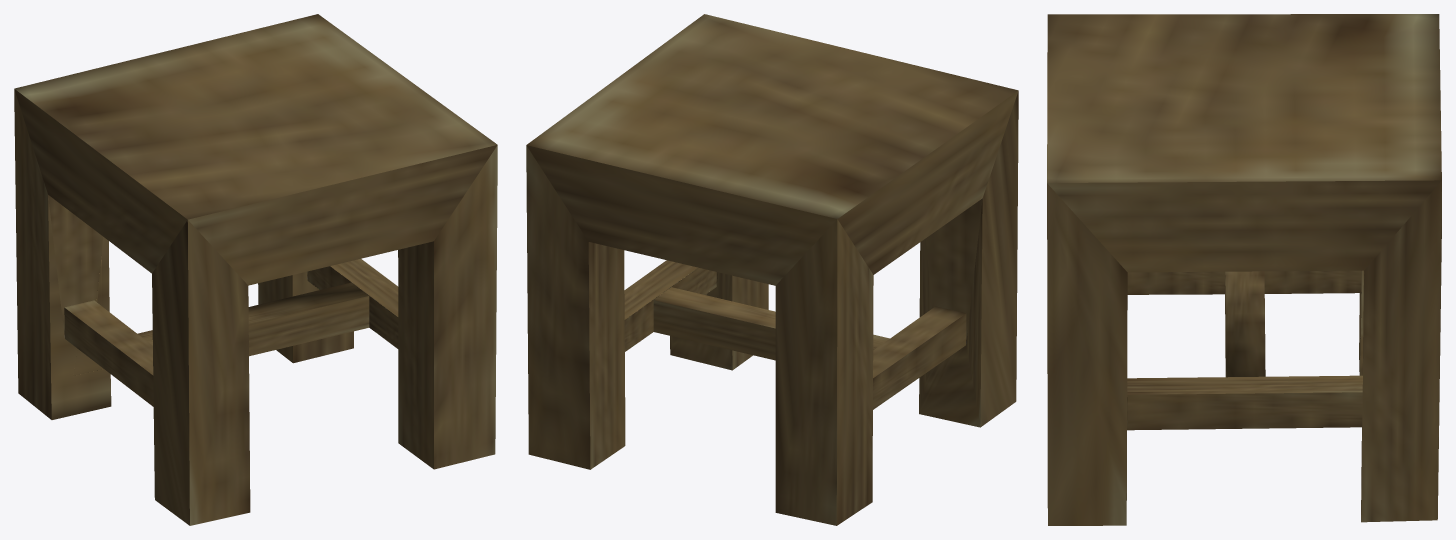
File: Stool.obj
The picture shows the model from 3 angles, left to right: view 1: azimuth 30°, elevation 25°; view 2: azimuth 150°, elevation 25°; view 3: azimuth 270°, elevation 25°; orthographic projection. The views are drawn at different scales.
Parts seen in each view (by area): view 1: chair; view 2: chair; view 3: chair.
Part boxes in pixels (x1=…): chair: x1=14, y1=14, x2=497, y2=525; chair: x1=526, y1=14, x2=1018, y2=525; chair: x1=1047, y1=14, x2=1441, y2=525.
Bounding box in the file's own units: 0.2272 × 0.2183 × 0.2255.
1 material, 1 textured.
